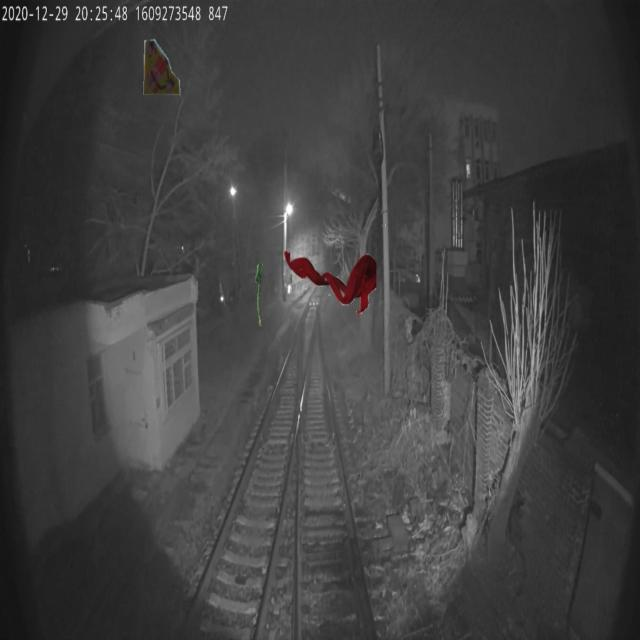balloon: (283, 250, 377, 314)
floating object: (142, 35, 180, 99), (255, 262, 263, 326)
